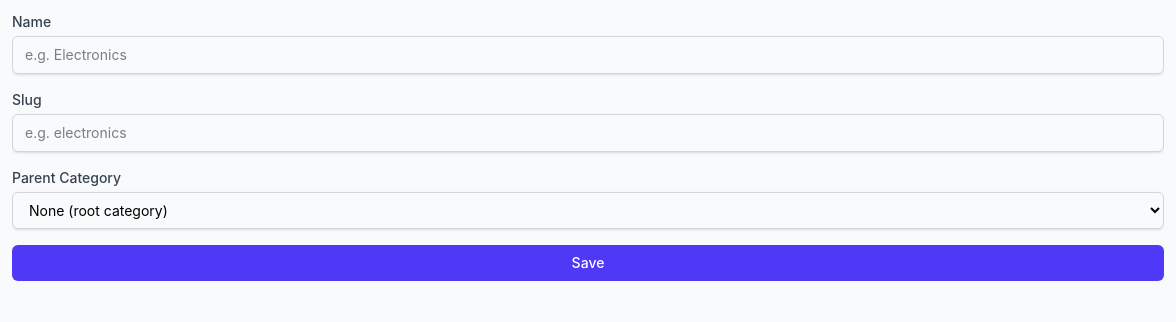
Test: CategoryForm › should show slug format validation error for invalid slug
Type "Electronics" into the field with placeholder "e.g. Electronics".
click(588, 55); type("Electronics")  # box [12,36,1164,74]
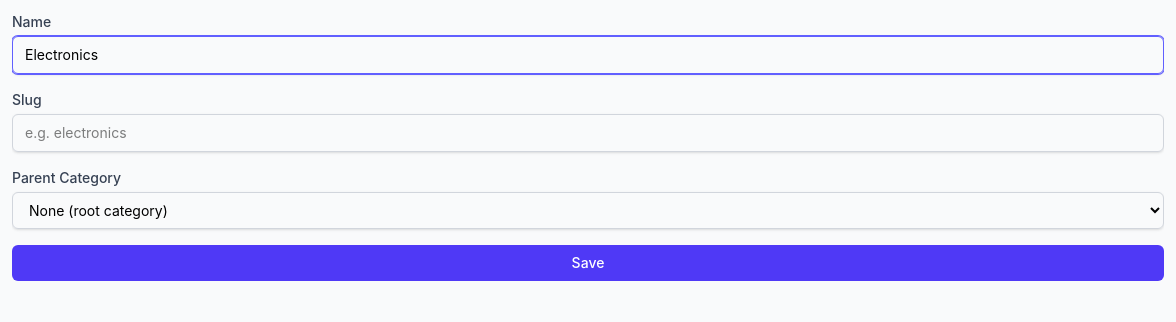
Type "Invalid Slug!" into the field with placeholder "e.g. electronics".
click(588, 133); type("Invalid Slug!")  # box [12,114,1164,152]
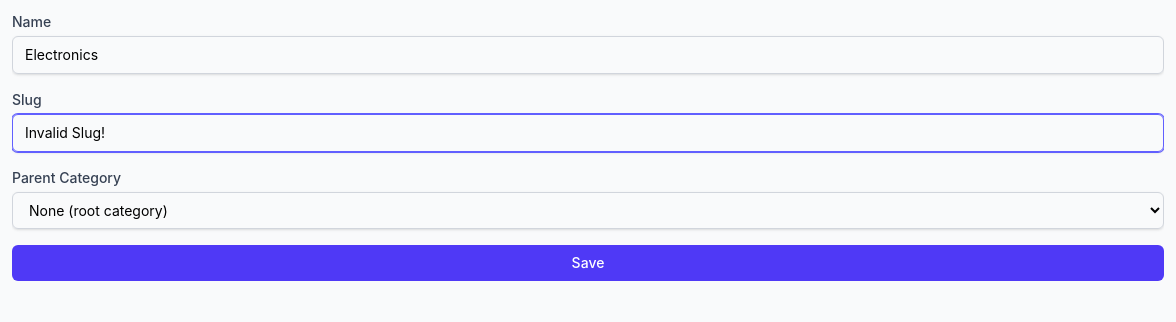
Click the button "Save".
click(588, 263)  # box [12,245,1164,281]
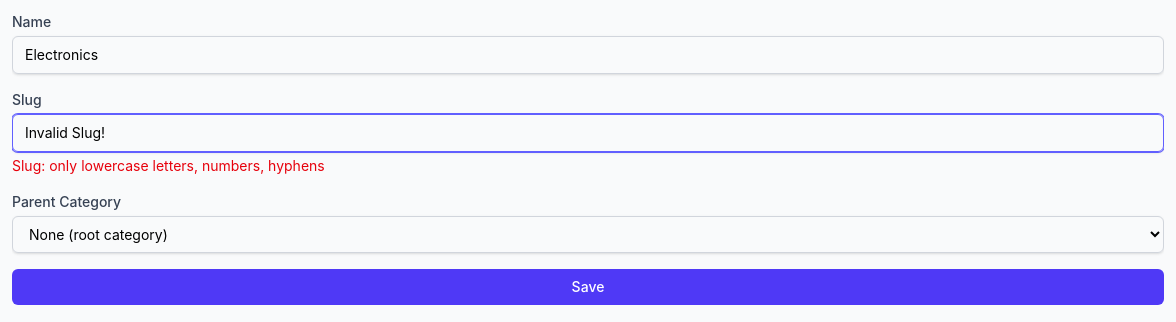
Check: the text "Slug: only lowercase letters, numbers, hyphens" is shown, box [12,157,325,174]
